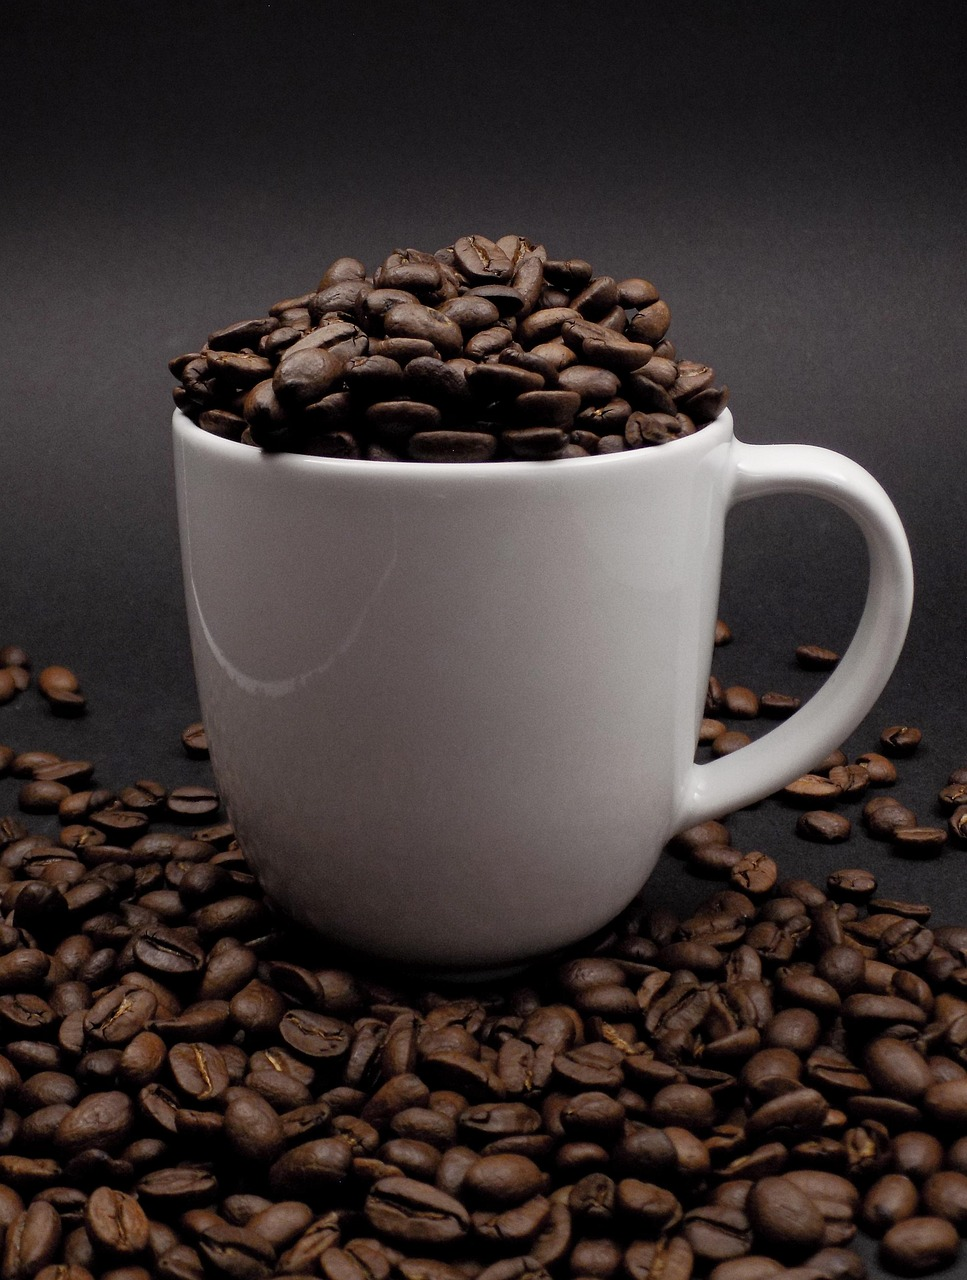mug: (146, 344, 922, 995)
